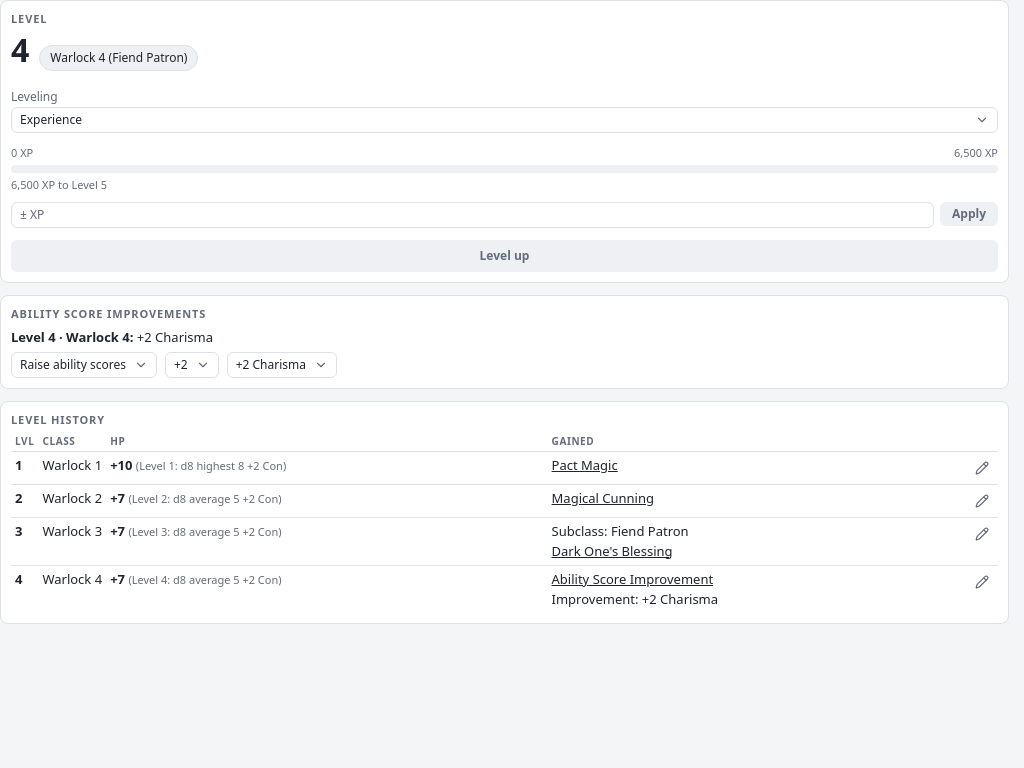
Test: LevelHistory › opens a feature's rules text from its name
The width and height of the screenshot is (1024, 768).
Click the button "Dark One's Blessing". click: (612, 551)
box: x1=552 y1=542 x2=673 y2=561
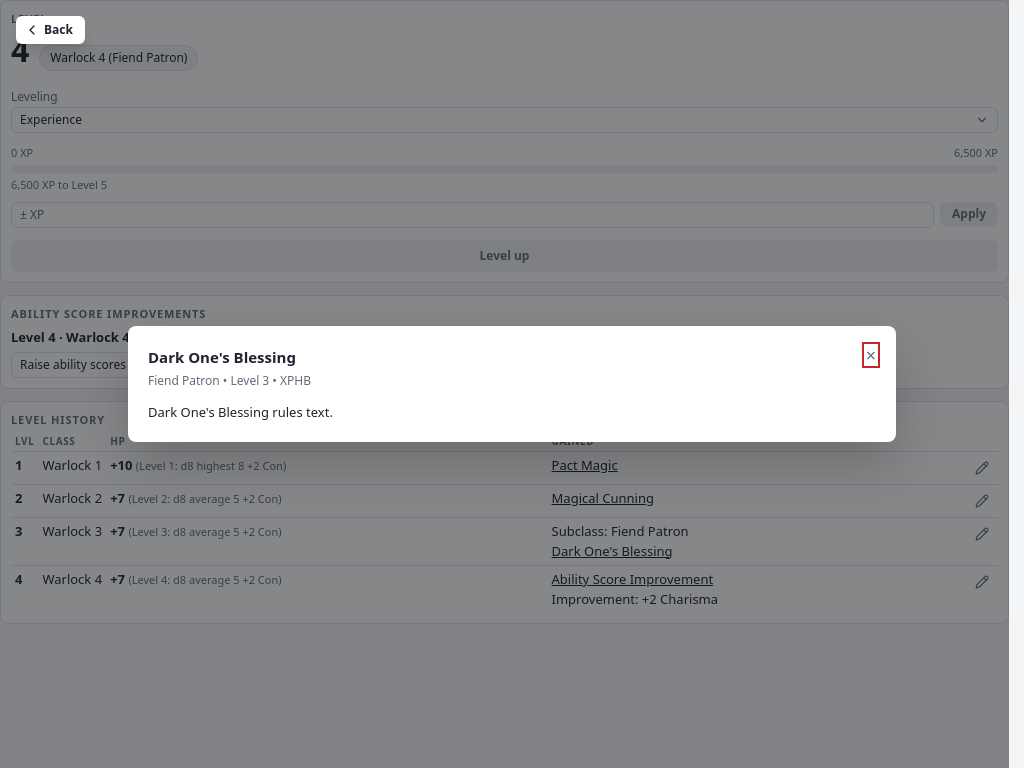
Now the text "Dark One's Blessing rules text." is shown, box x1=148 y1=402 x2=333 y2=420
